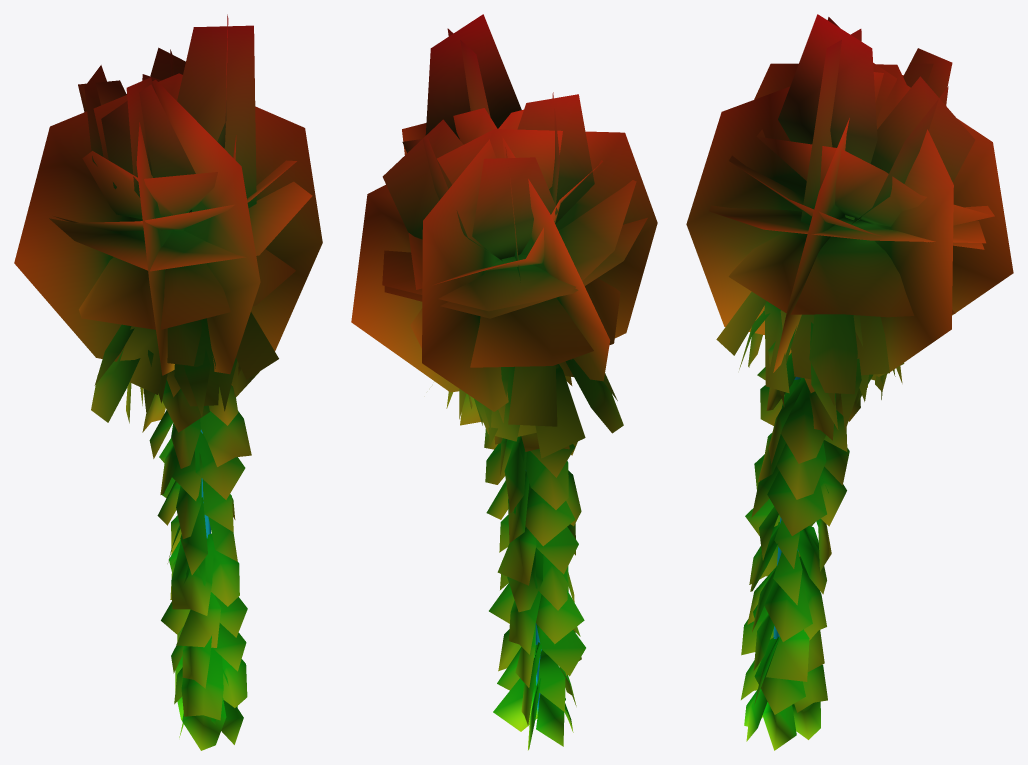
File: Joshua4.fbx
3 views of the same model, side by side, from view 1: azimuth 30°, elevation 25°; view 2: azimuth 150°, elevation 25°; view 3: azimuth 270°, elevation 25° (orthographic). The views are drawn at different scales.
Parts seen in each view (by area): view 1: Joshua4_LOD0; view 2: Joshua4_LOD0; view 3: Joshua4_LOD0.
Boxes of the visible parts, x1,y1,x2,y2 form: Joshua4_LOD0: (14,14,322,750); Joshua4_LOD0: (351,14,657,750); Joshua4_LOD0: (686,14,1013,750).
Size of what is drawn, in the model's own units: 115 by 310 by 123.
